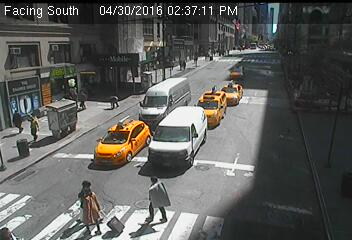neg: (206, 80, 238, 123), (272, 55, 303, 97), (1, 178, 29, 215), (269, 135, 296, 171), (226, 161, 253, 196), (111, 124, 137, 159), (166, 115, 192, 150), (108, 41, 133, 75), (44, 38, 69, 71), (11, 37, 35, 68), (209, 34, 232, 65), (50, 109, 68, 134), (18, 139, 33, 159)
pos: (136, 173, 174, 223), (72, 186, 106, 230), (6, 105, 26, 132), (75, 87, 94, 112), (25, 115, 43, 139), (61, 85, 76, 105), (108, 95, 121, 111)
